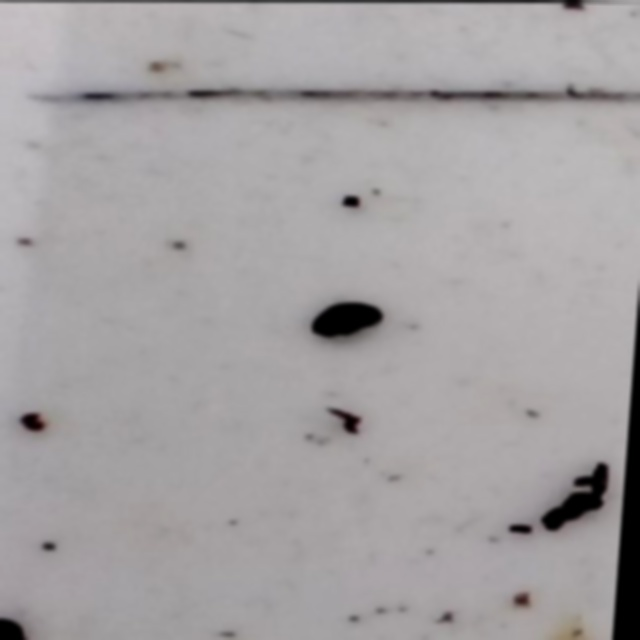varroa: (312, 296, 390, 341)
